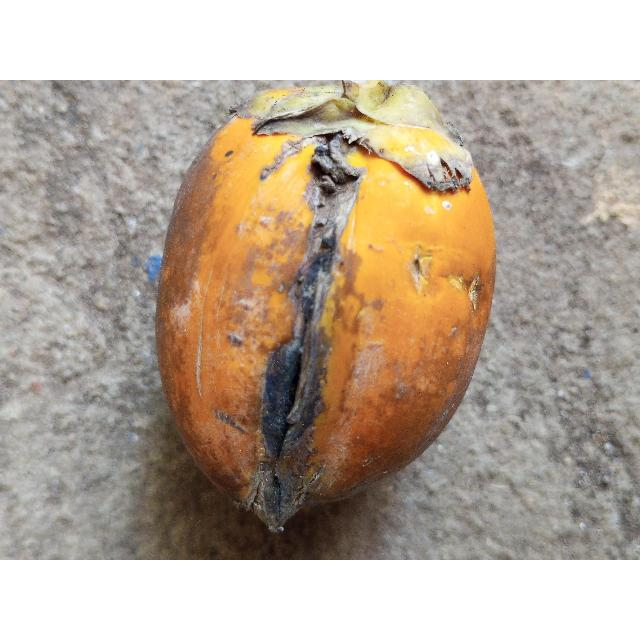damaged: (156, 80, 496, 533)
